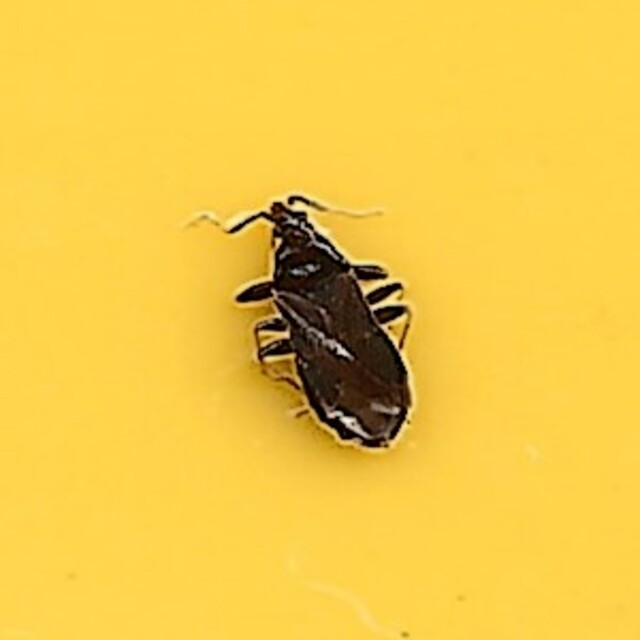Plecoptera: (213, 193, 427, 447)
